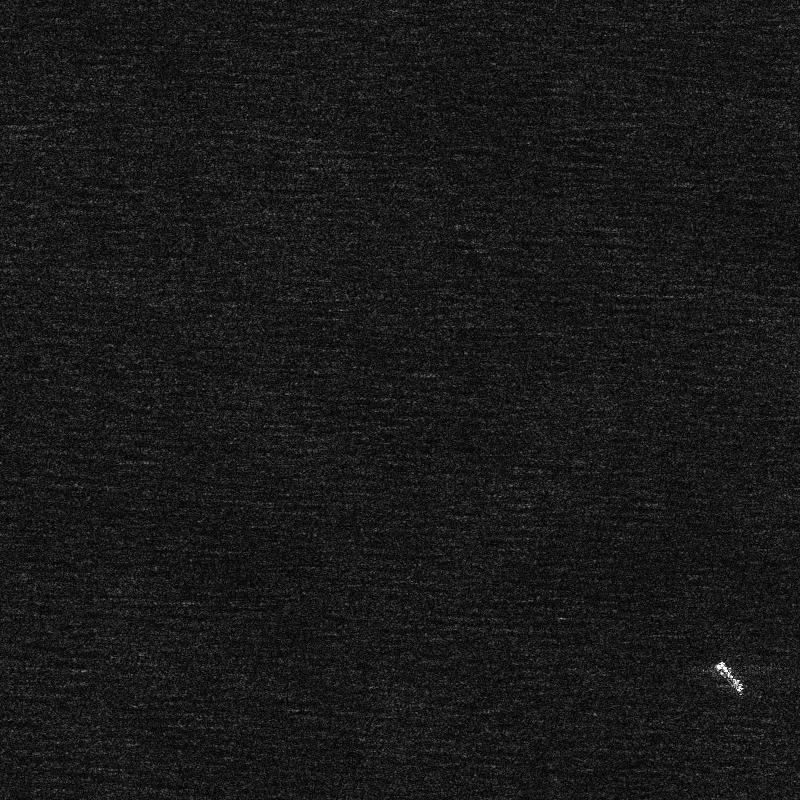ship: (714, 662, 744, 695)
